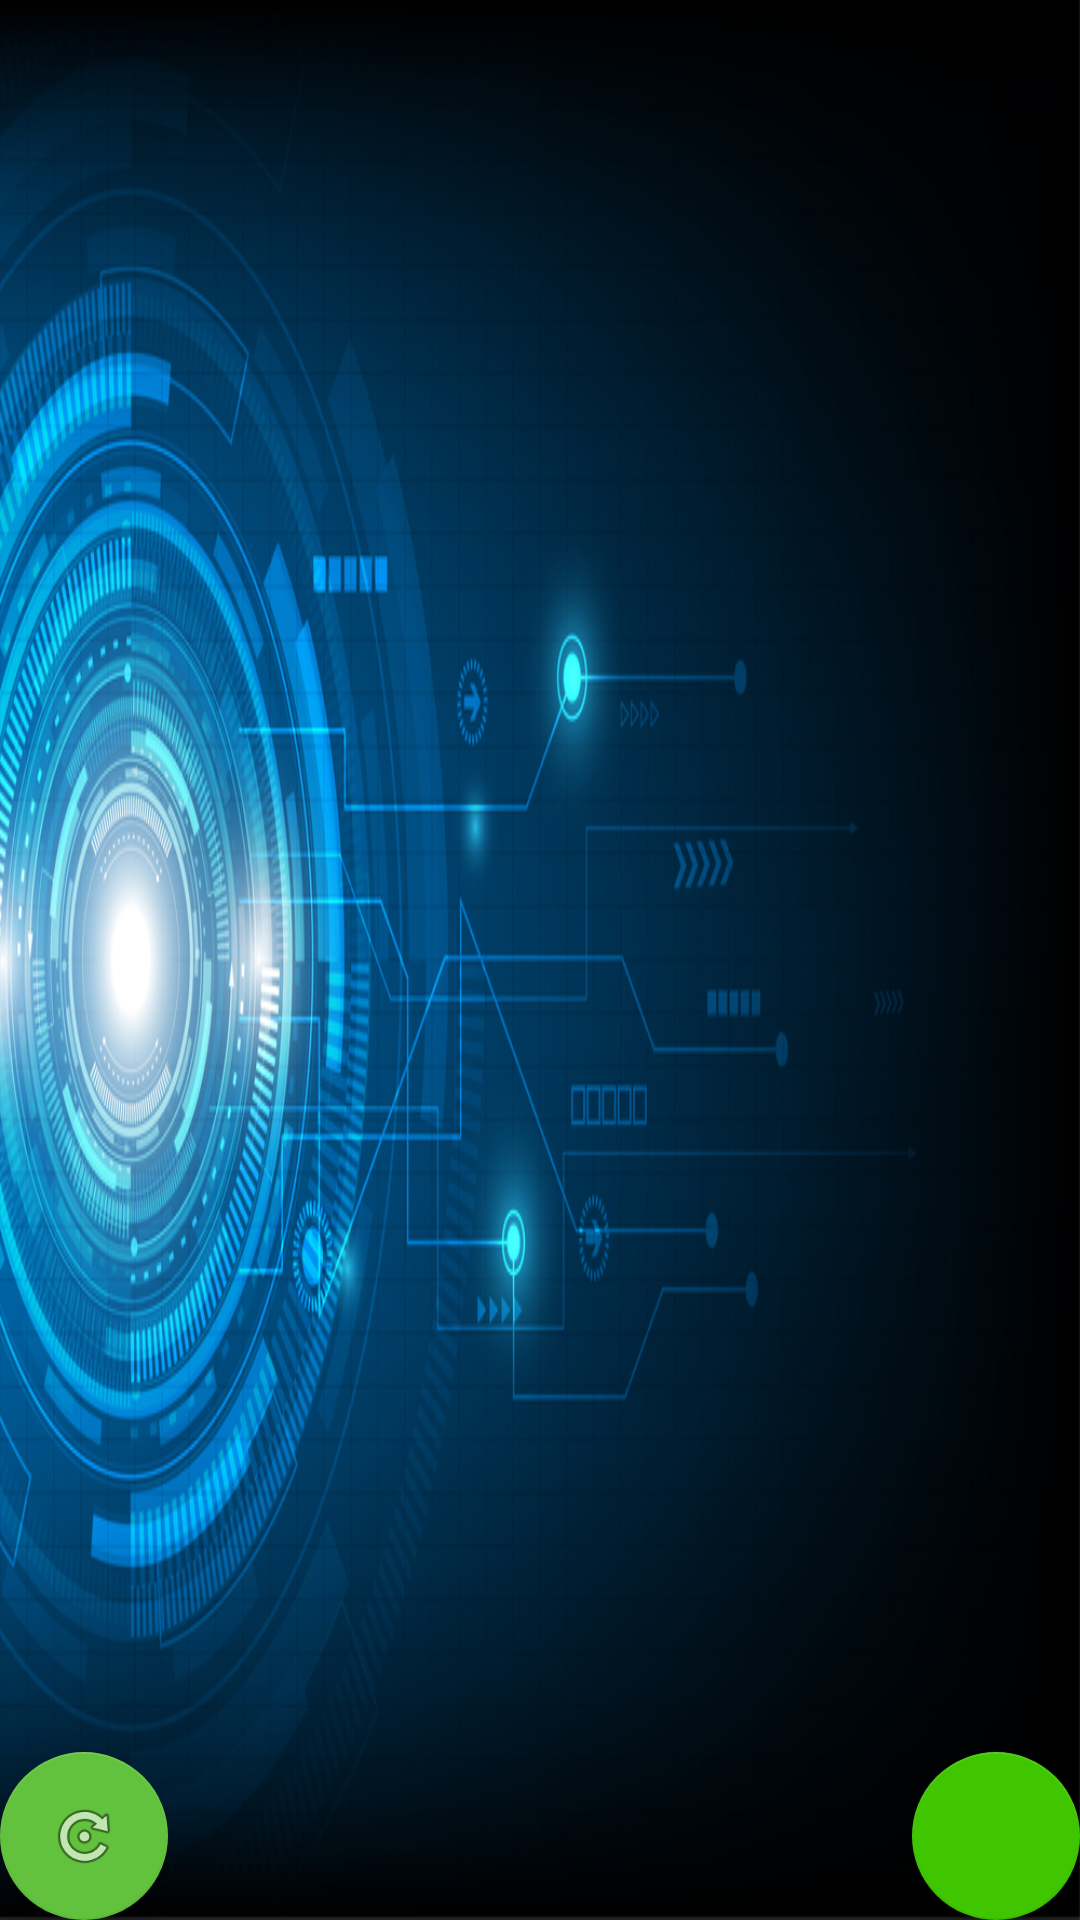

Where to tap for icons on this 1080x1920 app screen, as (x,y):
rotate: (84,1836)
